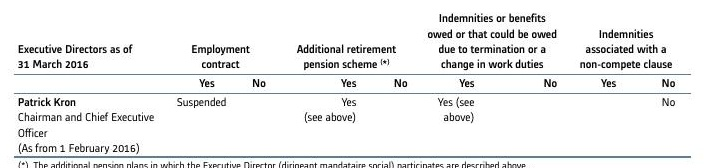table: (0, 0, 711, 168)
